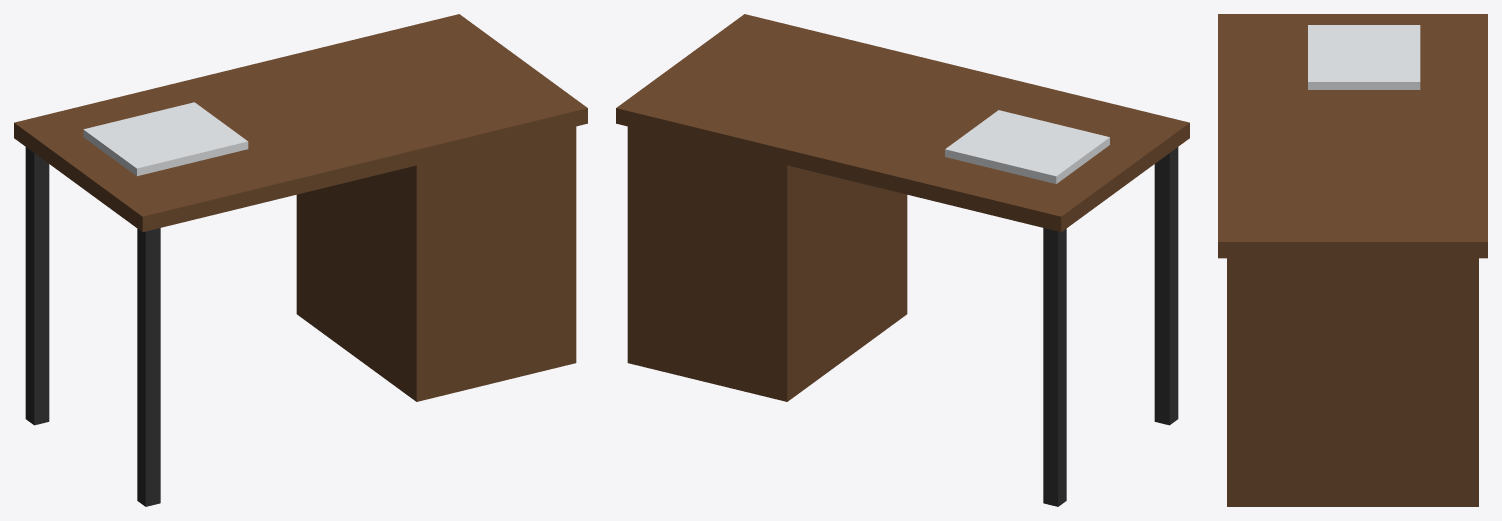
The model's file is prop_desk.glb.
The picture shows the model from 3 angles, left to right: view 1: azimuth 30°, elevation 25°; view 2: azimuth 150°, elevation 25°; view 3: azimuth 270°, elevation 25°; orthographic projection. The views are drawn at different scales.
Visible parts, largest first — view 1: prop_desk-col; view 2: prop_desk-col; view 3: prop_desk-col.
Part boxes in pixels (x1=…): prop_desk-col: x1=14, y1=14, x2=587, y2=506; prop_desk-col: x1=616, y1=14, x2=1189, y2=506; prop_desk-col: x1=1218, y1=14, x2=1487, y2=506.
Size of the model in its own units: 1.2 by 0.78 by 0.6.
